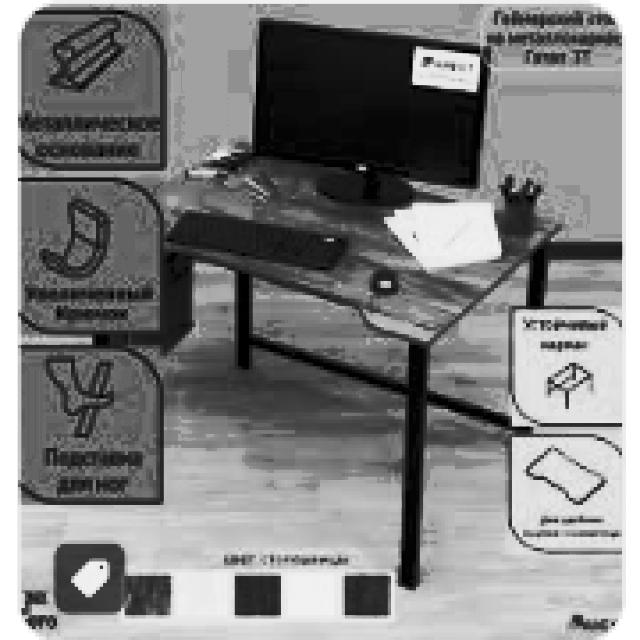table: (156, 142, 562, 587)
